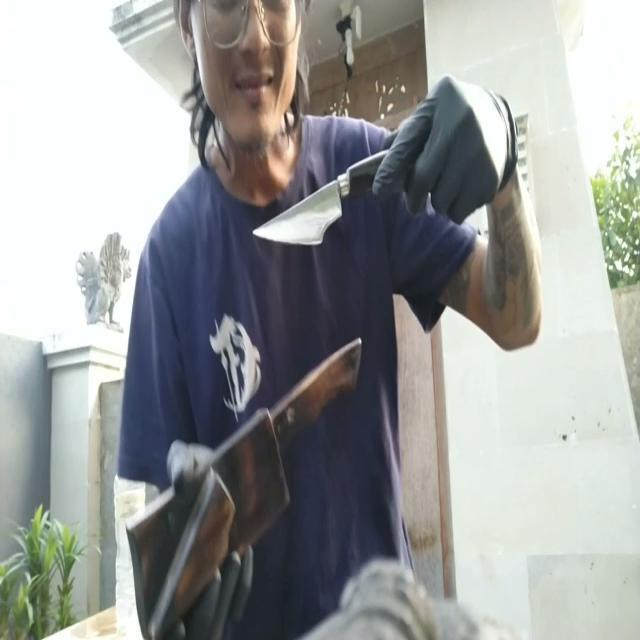Pisau: (250, 144, 387, 251)
